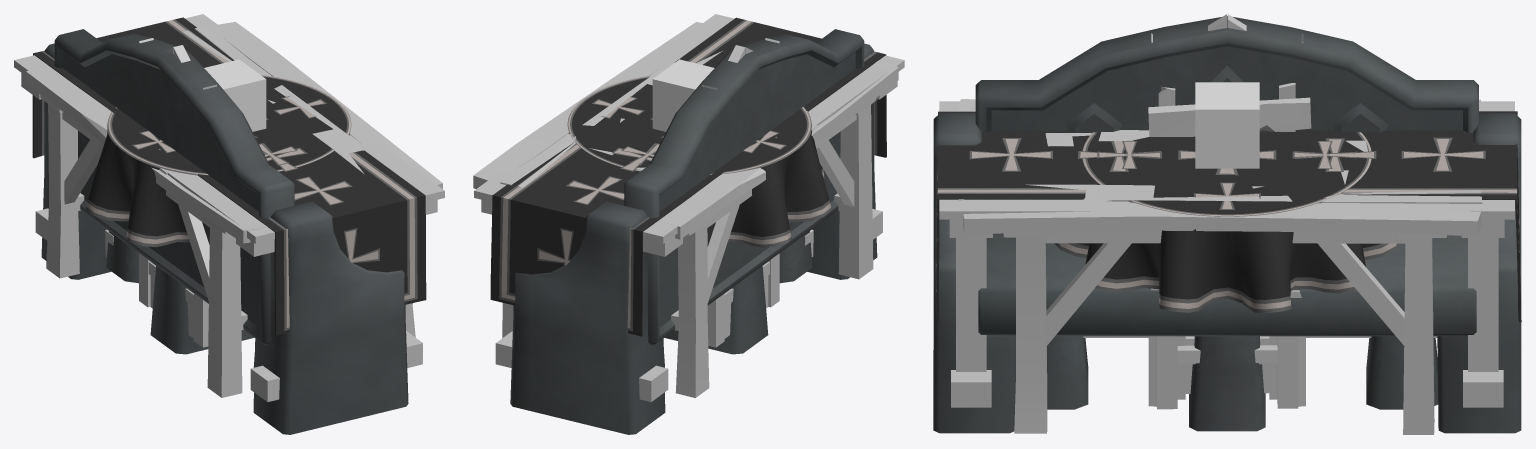
The model's file is furniture.fbx.
3 renders of one model, left to right at view 1: azimuth 30°, elevation 25°; view 2: azimuth 150°, elevation 25°; view 3: azimuth 270°, elevation 25°, orthographic. The views are drawn at different scales.
Visible parts, largest first — view 1: bench2, LOD_0123.56, LOD_0123.55, LOD_0123.59, Boundery Box, LOD_0123.7, bench1; view 2: bench2, LOD_0123.56, LOD_0123.55, LOD_0123.59, Boundery Box, LOD_0123.7, bench1; view 3: bench2, LOD_0123.55, LOD_0123.56, LOD_0123.59, LOD_0123.6, bench1, Boundery Box, LOD_0123.7, LOD_0123.8, LOD_0123.58.
Boxes of the visible parts, box(x1,y1,x2,y2) form: bench2: box(41, 29, 408, 434); LOD_0123.56: box(14, 14, 444, 401); LOD_0123.55: box(25, 21, 442, 397); LOD_0123.59: box(86, 75, 351, 246); Boundery Box: box(204, 59, 266, 131); LOD_0123.7: box(139, 38, 216, 347); bench1: box(106, 231, 254, 367); bench2: box(510, 29, 877, 434); LOD_0123.56: box(474, 14, 904, 401); LOD_0123.55: box(473, 22, 898, 397); LOD_0123.59: box(567, 76, 831, 247); Boundery Box: box(652, 59, 714, 131); LOD_0123.7: box(702, 38, 779, 347); bench1: box(664, 231, 812, 367); bench2: box(933, 16, 1521, 433); LOD_0123.55: box(956, 99, 1482, 434); LOD_0123.56: box(936, 101, 1521, 407); LOD_0123.59: box(1054, 130, 1399, 313); LOD_0123.6: box(1148, 83, 1311, 409); bench1: box(1047, 336, 1438, 409); Boundery Box: box(1195, 82, 1259, 168); LOD_0123.7: box(1148, 14, 1305, 406); LOD_0123.8: box(1177, 336, 1277, 399); LOD_0123.58: box(1098, 130, 1367, 207).
Size of the model in its own units: 261 by 173 by 147.
